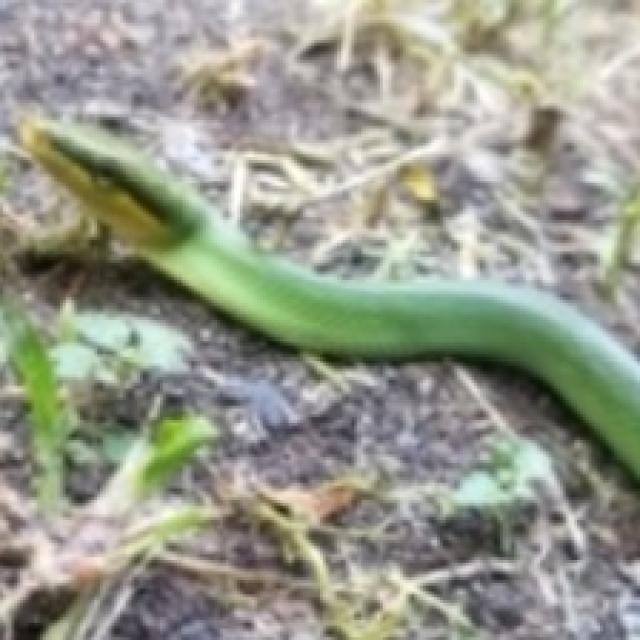red-tailed green ratsnake: (17, 114, 637, 483)
